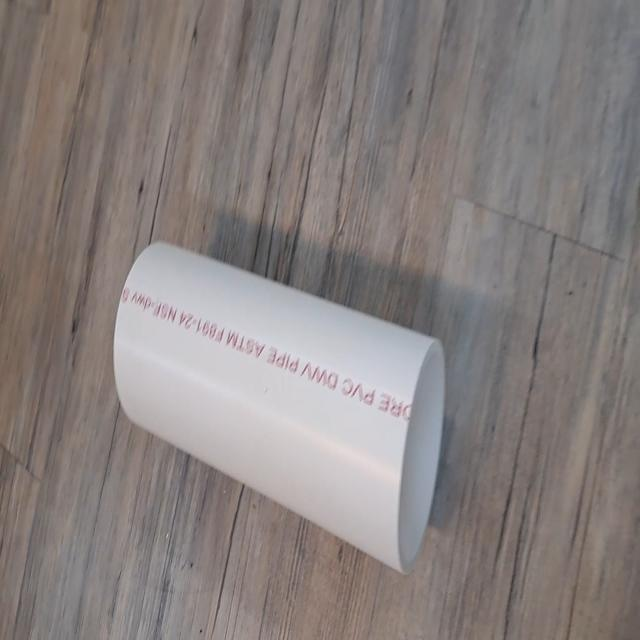CORAL: (110, 230, 449, 574)
